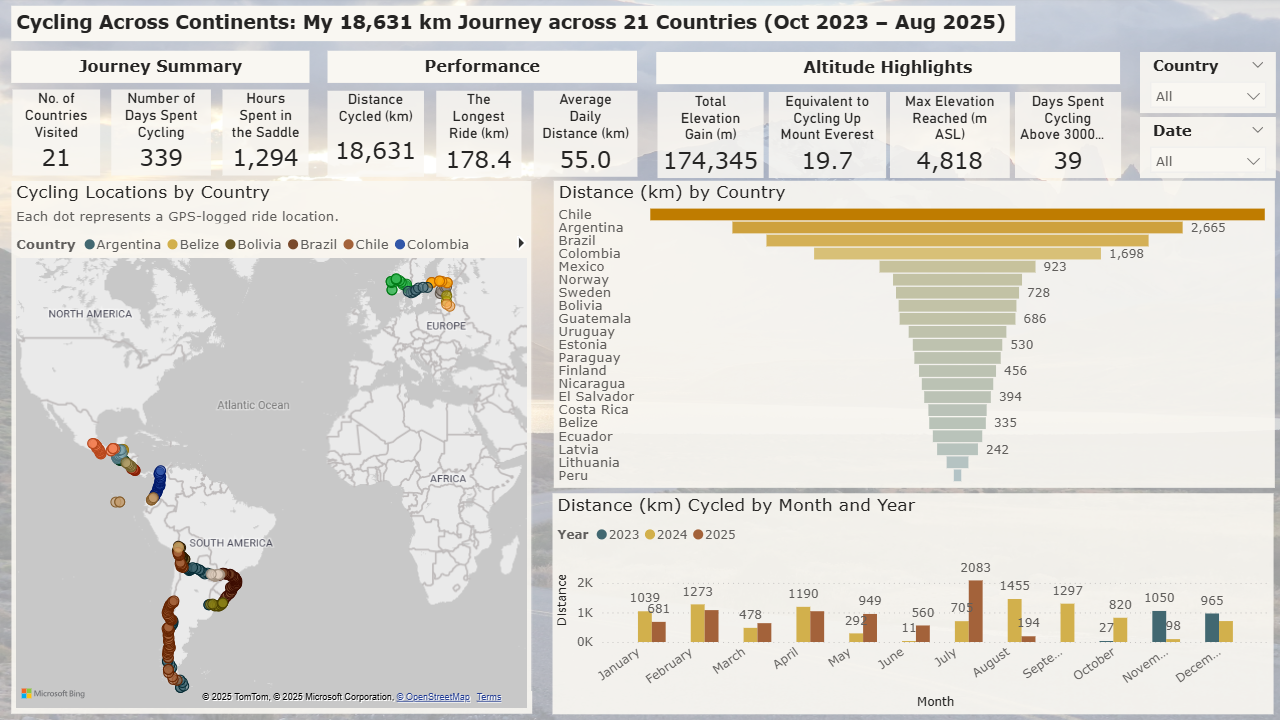

The page's visual inventory and layout, read from the dashboard file:
{"tool":"powerbi","page":{"name":"Cycling Dashboard","canvas":[1280,720],"ordinal":0},"visuals":[{"type":"card","title":"Number of Days Spent Cycling","fields":{"Values":["Count(activities.Activity Date)"]},"box":[110.7,92.3,99.4,85.9],"z":0},{"type":"card","title":"Distance Cycled (km)","fields":{"Values":["Sum(activities.Distance)"]},"box":[326.4,92.7,95.7,85.9],"z":1000},{"type":"card","title":"Total Elevation Gain (m)","fields":{"Values":["Sum(activities.Distance)","Sum(activities.Elevation Gain)"]},"box":[654,94.5,105.5,85.9],"z":2000},{"type":"card","title":"Equivalent to Cycling Up Mount Everest","fields":{"Values":["Sum(activities.Distance)","Sum(activities.Elevation Gain)","select","select1"]},"box":[764.4,94.5,116.6,85.9],"z":3000},{"type":"card","title":"Hours Spent in the Saddle","fields":{"Values":["Sum(activities.Moving Time)","select"]},"box":[221.1,92.3,85.9,85.9],"z":4000},{"type":"map","title":"Cycling Locations by Country","fields":{"Y":["activities.latitude_deg"],"X":["activities.longitude_deg"],"Series":["activities.Country"]},"box":[11,182.8,517.8,530.1],"z":5000},{"type":"card","title":"Days Spent Cycling Above 3000m ASL","fields":{"Values":["Sum(activities.Moving Time)","Count(activities.Elevation High)","select","select1"]},"box":[1009.8,94.5,105.5,85.9],"z":6000},{"type":"clusteredColumnChart","title":"Distance (km) Cycled by Month and Year","fields":{"Category":["activities.Activity Date.Variation.Date Hierarchy.Month"],"Y":["Sum(activities.Distance)"],"Series":["activities.Activity Date.Variation.Date Hierarchy.Year"]},"box":[549.7,493.3,717.8,219.6],"z":7000},{"type":"card","title":"Max Elevation Reached (m ASL)","fields":{"Values":["Sum(activities.Moving Time)","Max(activities.Elevation High)"]},"box":[885.9,94.5,119,85.9],"z":8000},{"type":"card","title":"The Longest Ride (km)","fields":{"Values":["Sum(activities.Moving Time)","Max(activities.Distance)"]},"box":[434.4,92.7,84.7,85.9],"z":9000},{"type":"card","title":"Average Daily Distance (km)","fields":{"Values":["Sum(activities.Moving Time)","Avg(activities.Distance)"]},"box":[531.3,92.7,103.1,85.9],"z":10000},{"type":"funnel","title":"Distance (km) by Country","fields":{"Y":["Sum(activities.Distance)"],"Category":["activities.Country"]},"box":[550.9,182.8,717.8,305.5],"z":11000},{"type":"slicer","fields":{"Values":["activities.Country"]},"box":[1134.7,54.5,135.6,61],"z":12000},{"type":"card","title":"No. of Countries Visited","fields":{"Values":["Sum(activities.Moving Time)","Count(activities.Country)"]},"box":[12.5,92.3,87.1,85.9],"z":13000},{"type":"textbox","box":[11,54,296.9,31.9],"z":14000},{"type":"textbox","box":[326.4,54,308,31.9],"z":15000},{"type":"textbox","box":[653.5,54.2,461.4,31.9],"z":16000},{"type":"slicer","fields":{"Values":["activities.Activity Date.Variation.Date Hierarchy.Year","activities.Activity Date.Variation.Date Hierarchy.Month"]},"box":[1134.7,119.2,135.6,61],"z":17000},{"type":"textbox","box":[11.2,8.7,998.9,34.8],"z":18000}]}

Visuals, with their boxes in screenshot pixels (x1, y1, x2, y2), scaled from the page's 1280x720 canvas onto the 1280x720 screenshot:
"Number of Days Spent Cycling" card: select_region(111, 92, 210, 178)
"Distance Cycled (km)" card: select_region(326, 93, 422, 179)
"Total Elevation Gain (m)" card: select_region(654, 94, 760, 180)
"Equivalent to Cycling Up Mount Everest" card: select_region(764, 94, 881, 180)
"Hours Spent in the Saddle" card: select_region(221, 92, 307, 178)
"Cycling Locations by Country" map: select_region(11, 183, 529, 713)
"Days Spent Cycling Above 3000m ASL" card: select_region(1010, 94, 1115, 180)
"Distance (km) Cycled by Month and Year" clusteredColumnChart: select_region(550, 493, 1268, 713)
"Max Elevation Reached (m ASL)" card: select_region(886, 94, 1005, 180)
"The Longest Ride (km)" card: select_region(434, 93, 519, 179)
"Average Daily Distance (km)" card: select_region(531, 93, 634, 179)
"Distance (km) by Country" funnel: select_region(551, 183, 1269, 488)
slicer - activities.Country: select_region(1135, 54, 1270, 116)
"No. of Countries Visited" card: select_region(12, 92, 100, 178)
textbox: select_region(11, 54, 308, 86)
textbox: select_region(326, 54, 634, 86)
textbox: select_region(654, 54, 1115, 86)
slicer - activities.Activity Date.Variation.Date Hierarchy.Year x activities.Activity Date.Variation.Date Hierarchy.Month: select_region(1135, 119, 1270, 180)
textbox: select_region(11, 9, 1010, 44)
